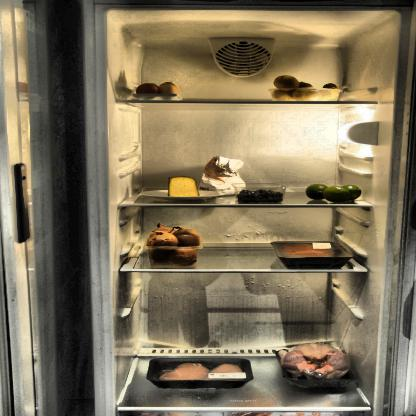beef: (278, 238, 344, 266)
blueberries: (238, 189, 285, 202)
cheese: (165, 175, 199, 199)
chicken: (278, 340, 355, 390), (151, 355, 248, 389)
eggs: (134, 80, 182, 100)
lime: (305, 182, 362, 202)
onion: (145, 221, 201, 265)
potato: (270, 74, 342, 101)
